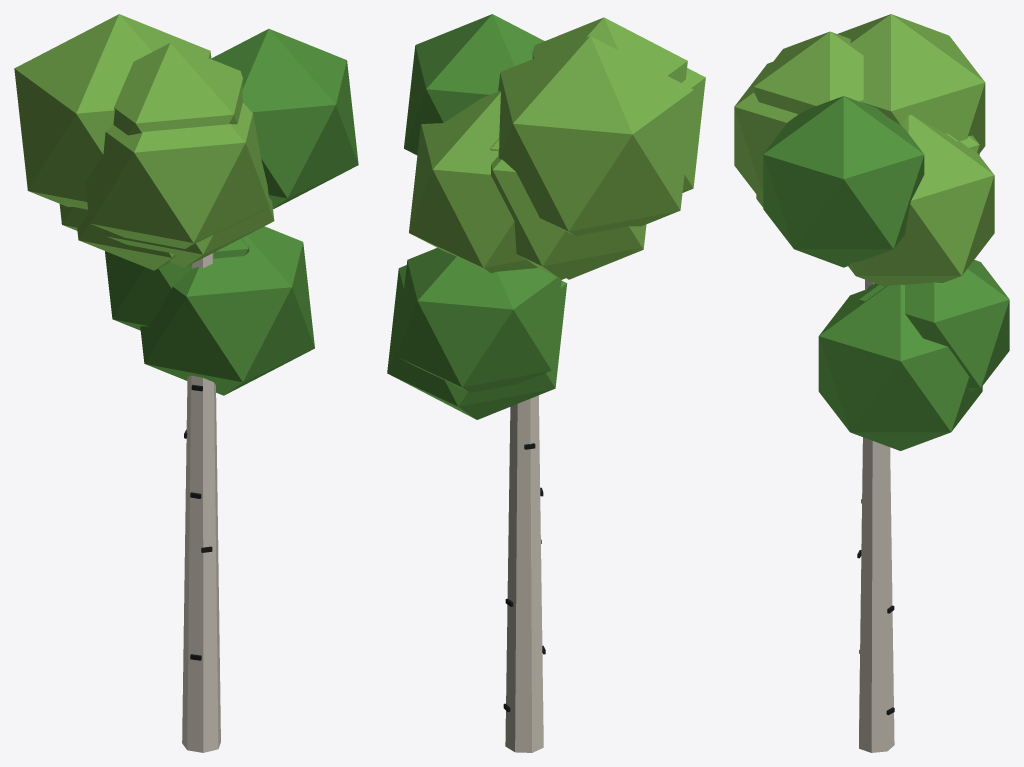
Rendered from arbre_prairie_2.glb.
3 renders of one model, left to right at view 1: azimuth 30°, elevation 25°; view 2: azimuth 150°, elevation 25°; view 3: azimuth 270°, elevation 25°, orthographic. The views are drawn at different scales.
Parts seen in each view (by area): view 1: feuillage_feuille_claire.006, feuillage_feuille.012, tronc.012; view 2: feuillage_feuille_claire.006, feuillage_feuille.012, tronc.012; view 3: feuillage_feuille.012, feuillage_feuille_claire.006, tronc.012.
Part boxes in pixels (x1,y1,x2,y2): feuillage_feuille_claire.006: (14, 14, 274, 270); feuillage_feuille.012: (105, 28, 358, 395); tronc.012: (182, 253, 220, 752); feuillage_feuille_claire.006: (409, 17, 705, 279); feuillage_feuille.012: (387, 14, 567, 419); tronc.012: (505, 395, 543, 752); feuillage_feuille.012: (763, 96, 1009, 450); feuillage_feuille_claire.006: (734, 14, 994, 286); tronc.012: (859, 279, 894, 752).
Size of the model in its own units: 1.87 by 4.51 by 1.61.
